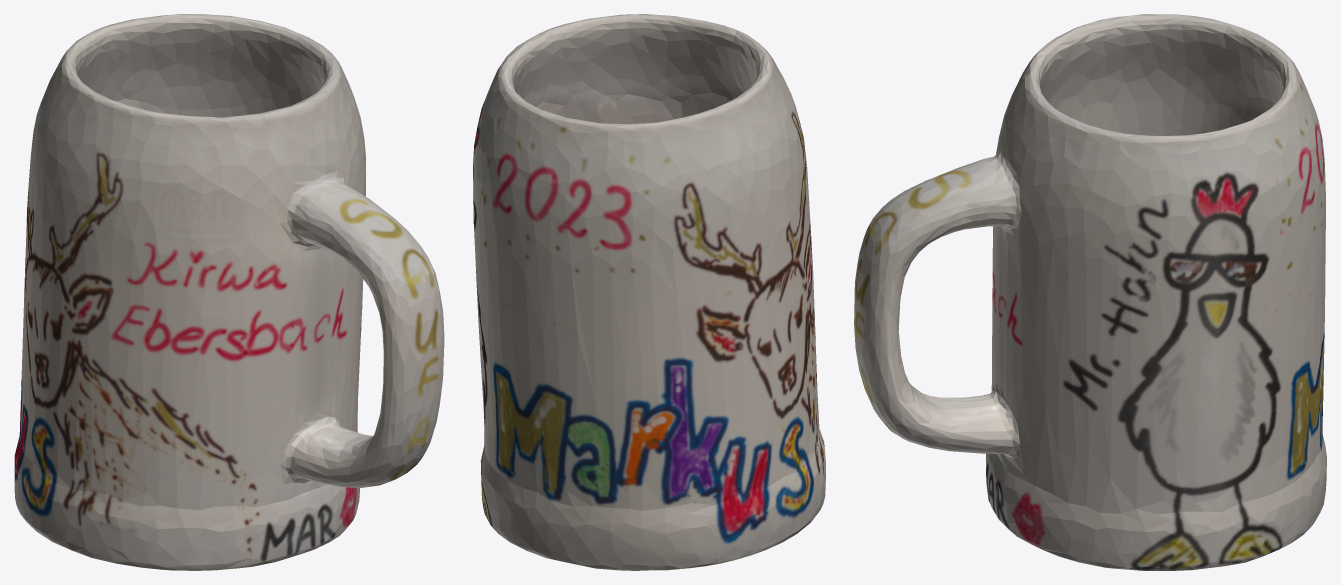
The model's file is 266EB2A8-26A2-C843-9A77-1EFC1AF88B93_2k.glb.
3 renders of one model, left to right at view 1: azimuth 30°, elevation 25°; view 2: azimuth 150°, elevation 25°; view 3: azimuth 270°, elevation 25°, orthographic.
Visible parts, largest first — view 1: Krug Markus_5k_2k; view 2: Krug Markus_5k_2k; view 3: Krug Markus_5k_2k.
Part boxes in pixels (left/top/right/bottom): Krug Markus_5k_2k: left=14, top=14, right=444, bottom=570; Krug Markus_5k_2k: left=473, top=14, right=825, bottom=570; Krug Markus_5k_2k: left=854, top=14, right=1326, bottom=570.
Size of the model in its own units: 0.1012 by 0.1397 by 0.1359.
Materials: 1 (1 with a texture image).
